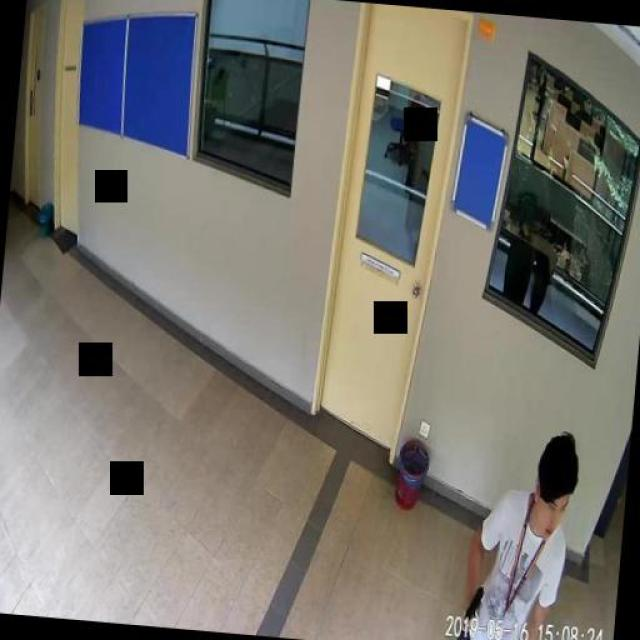gun: (462, 582, 482, 618)
